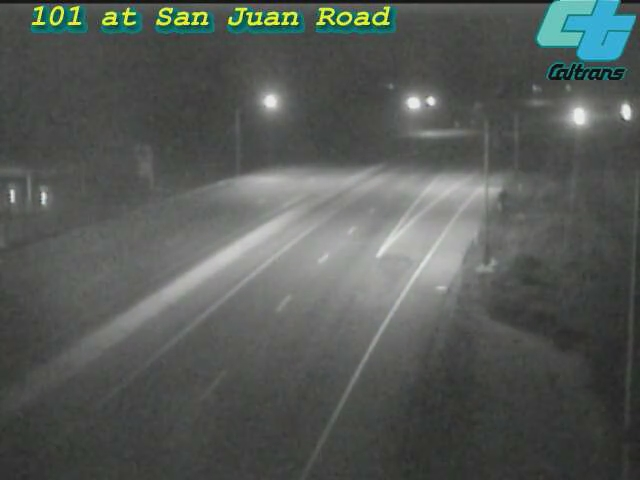vehicle: (554, 93, 604, 143), (600, 86, 640, 136)
